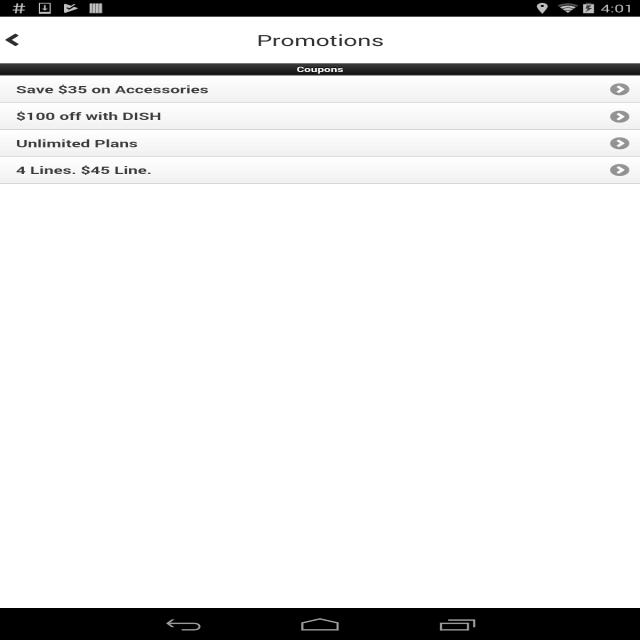ImageButton: (603, 78, 635, 98), (604, 134, 635, 154), (2, 29, 29, 49), (606, 161, 632, 179)
ImageView: (10, 82, 213, 98)
TextView: (249, 30, 385, 50), (10, 107, 165, 123), (15, 162, 154, 178), (10, 136, 141, 150)
